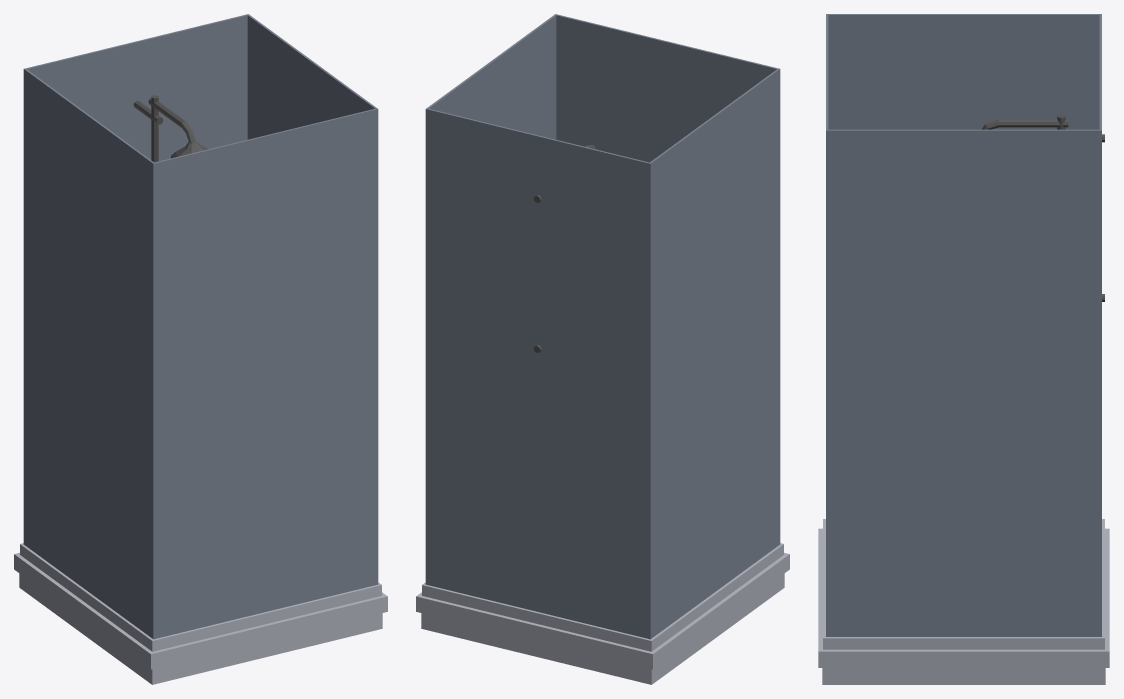
The model's file is Douche.fbx.
The picture shows the model from 3 angles, left to right: view 1: azimuth 30°, elevation 25°; view 2: azimuth 150°, elevation 25°; view 3: azimuth 270°, elevation 25°; orthographic projection. The views are drawn at different scales.
Visible parts, largest first — view 1: Douche; view 2: Douche; view 3: Douche.
Part boxes in pixels (left/top/right/bottom): Douche: left=14, top=14, right=387, bottom=684; Douche: left=416, top=14, right=789, bottom=684; Douche: left=818, top=14, right=1109, bottom=684.
Size of the model in its own units: 412 by 862 by 412.
